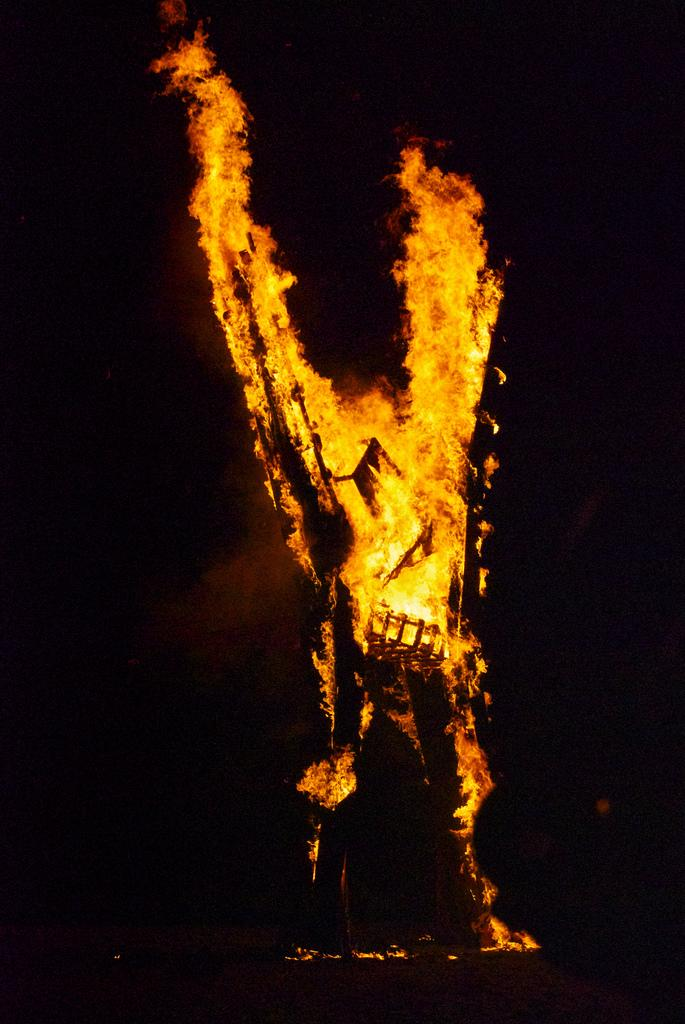fire: (295, 400, 482, 628), (188, 160, 300, 342), (420, 185, 493, 412)
